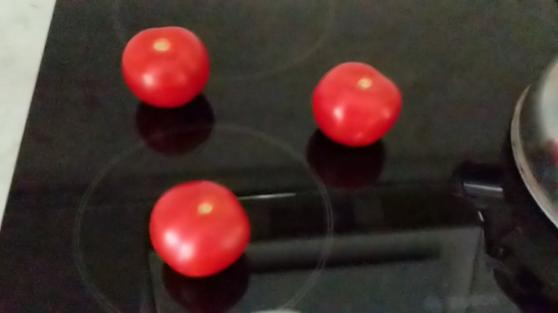tomato: (146, 181, 252, 277), (313, 63, 403, 147), (120, 24, 209, 108)
